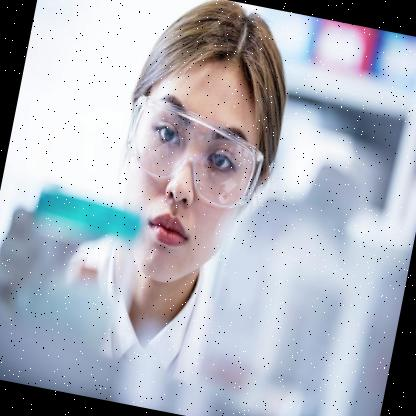oculos: (118, 92, 270, 213)
